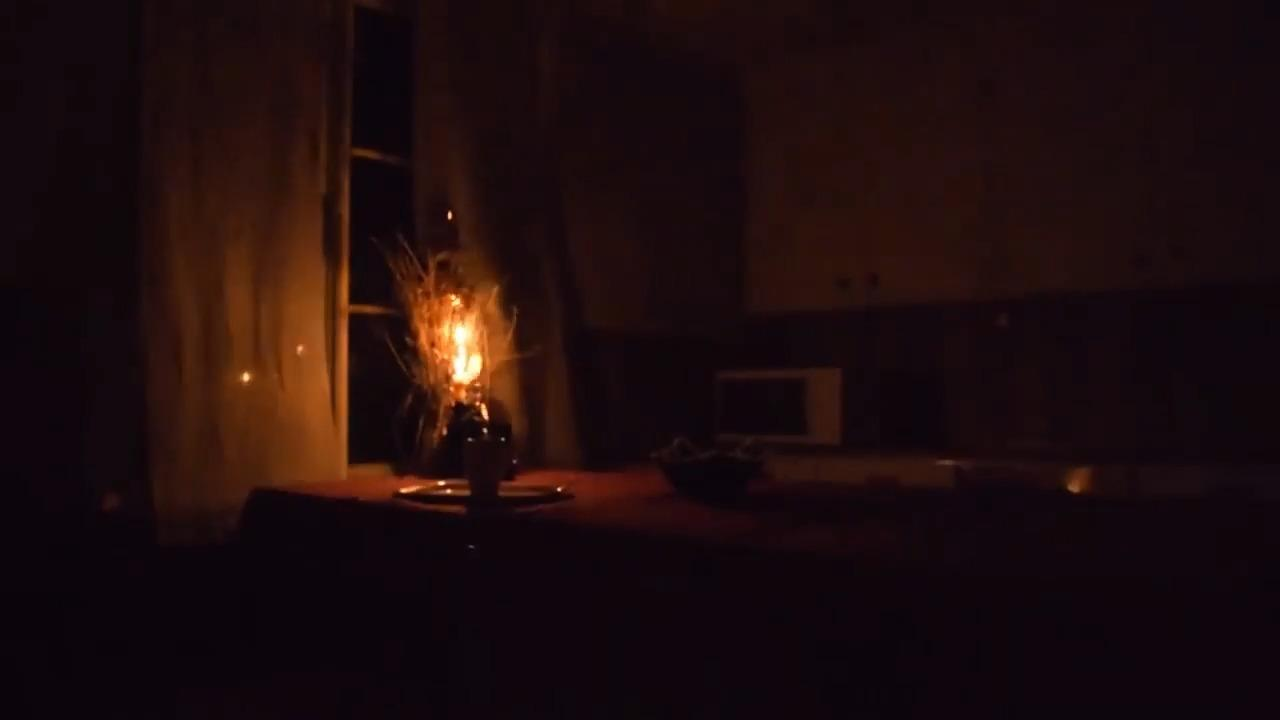fire: (436, 287, 500, 399)
